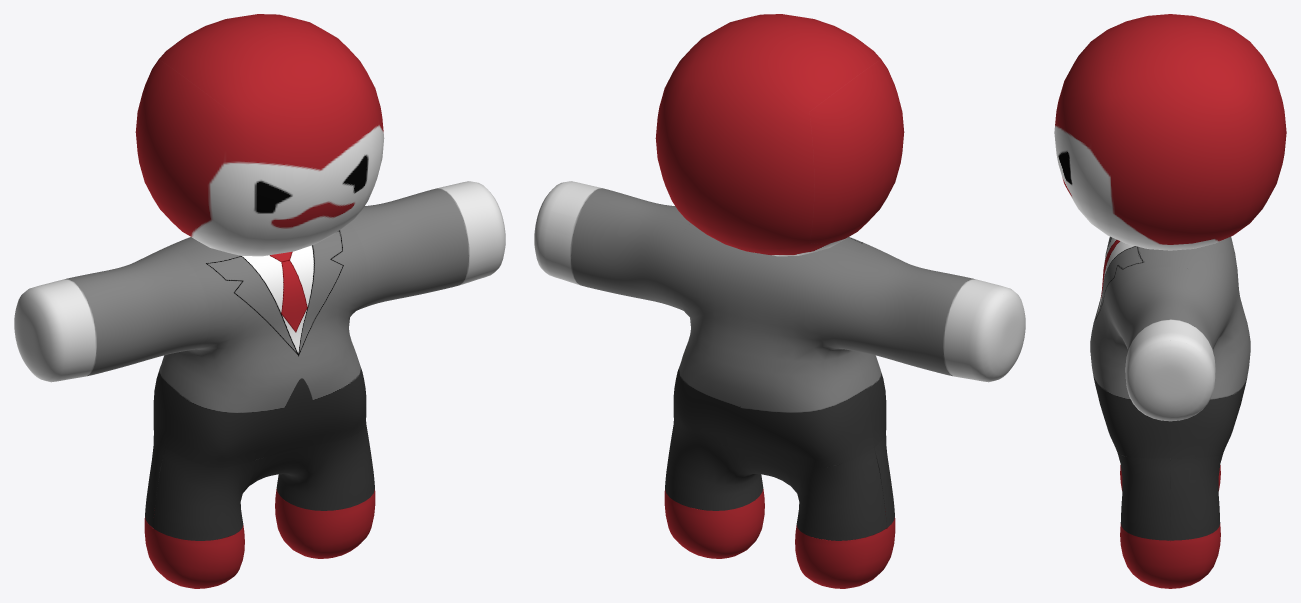
The model's file is Boss Char.fbx.
3 renders of one model, left to right at view 1: azimuth 30°, elevation 25°; view 2: azimuth 150°, elevation 25°; view 3: azimuth 270°, elevation 25°, orthographic. The views are drawn at different scales.
Visible parts, largest first — view 1: Plane.003; view 2: Plane.003; view 3: Plane.003.
Part boxes in pixels (x1,y1,x2,y2): Plane.003: (14, 14, 505, 588); Plane.003: (534, 14, 1025, 588); Plane.003: (1054, 14, 1286, 588).
Bounding box in the file's own units: 168 × 187 × 74.94.
2 materials, 1 textured.
